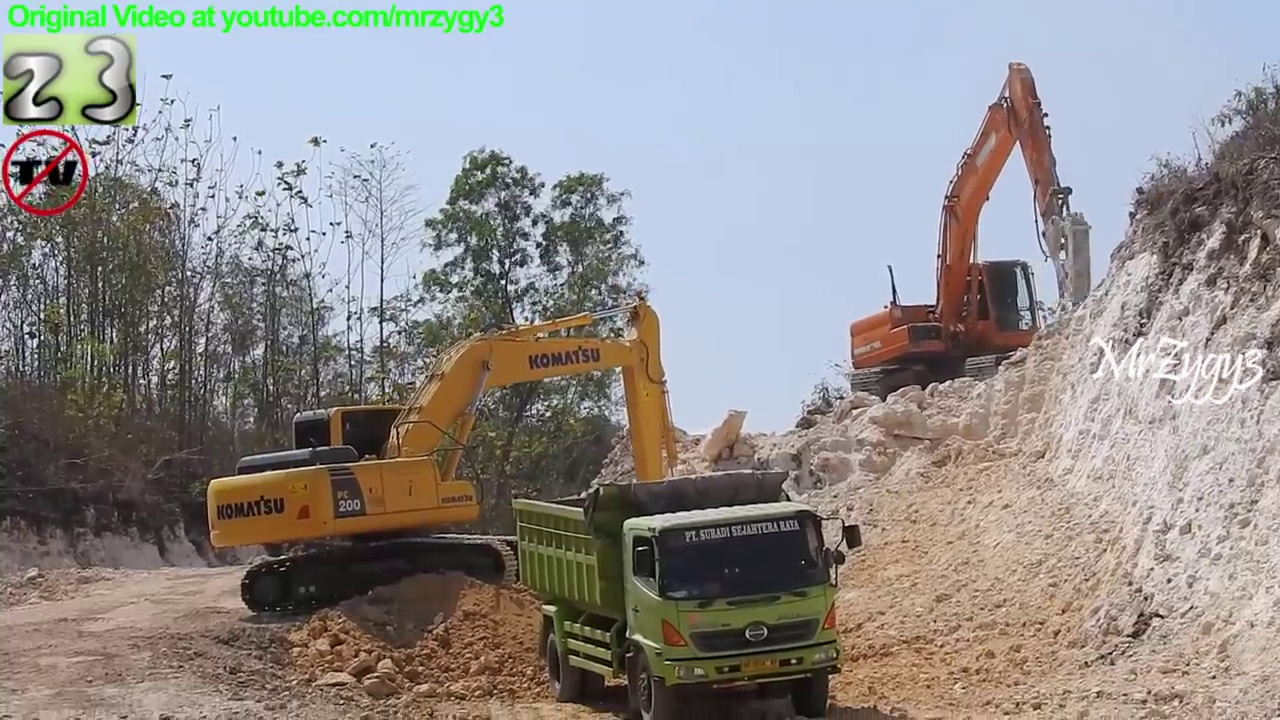excavator: (205, 298, 709, 623), (846, 59, 1102, 407)
truck: (506, 468, 871, 720)
